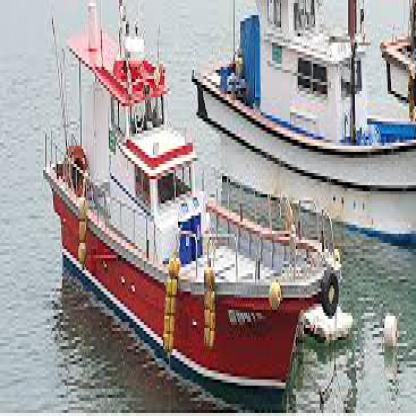fish-b: (41, 0, 346, 413), (188, 0, 415, 264)
